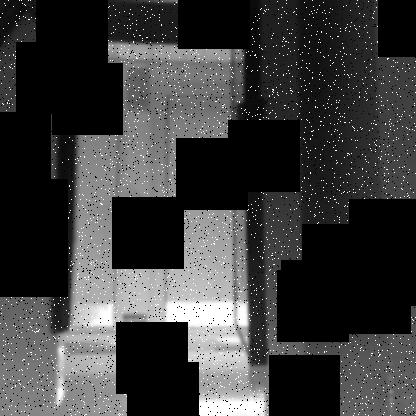Porte: (46, 0, 270, 368)
